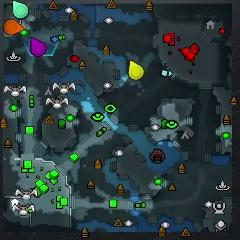p2: (12, 0, 29, 20)
p3: (30, 36, 46, 57)
p4: (128, 60, 145, 80)
p5: (4, 20, 24, 35)
